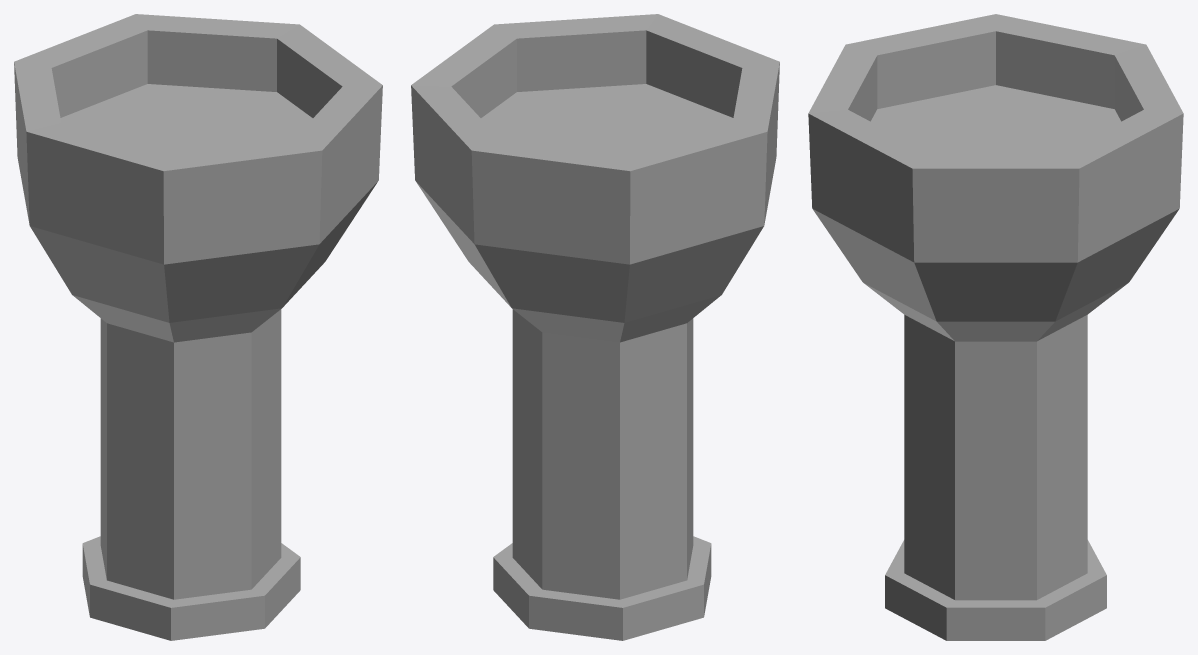
Rendered from stone_torch.glb.
3 views of the same model, side by side, from view 1: azimuth 30°, elevation 25°; view 2: azimuth 150°, elevation 25°; view 3: azimuth 270°, elevation 25° (orthographic).
Parts seen in each view (by area): view 1: stone_torch; view 2: stone_torch; view 3: stone_torch.
Boxes of the visible parts, <box> form: stone_torch: <box>14,14,382,640</box>; stone_torch: <box>411,14,779,640</box>; stone_torch: <box>808,14,1183,640</box>.
Size of the model in its own units: 0.4451 by 0.6769 by 0.4565.
1 material, 1 textured.
